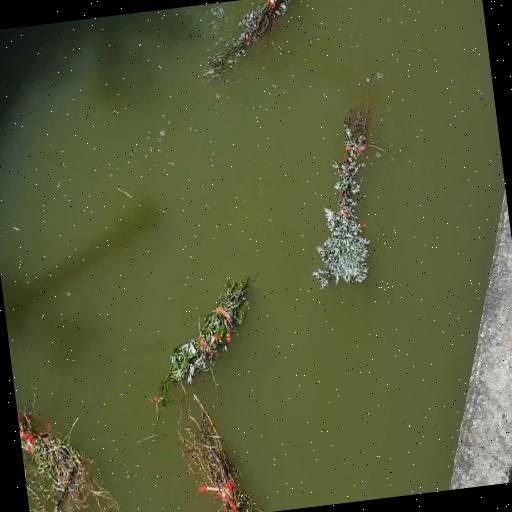twig: (288, 78, 398, 295), (168, 351, 264, 512), (144, 270, 265, 396), (16, 394, 124, 512), (191, 0, 309, 86)
